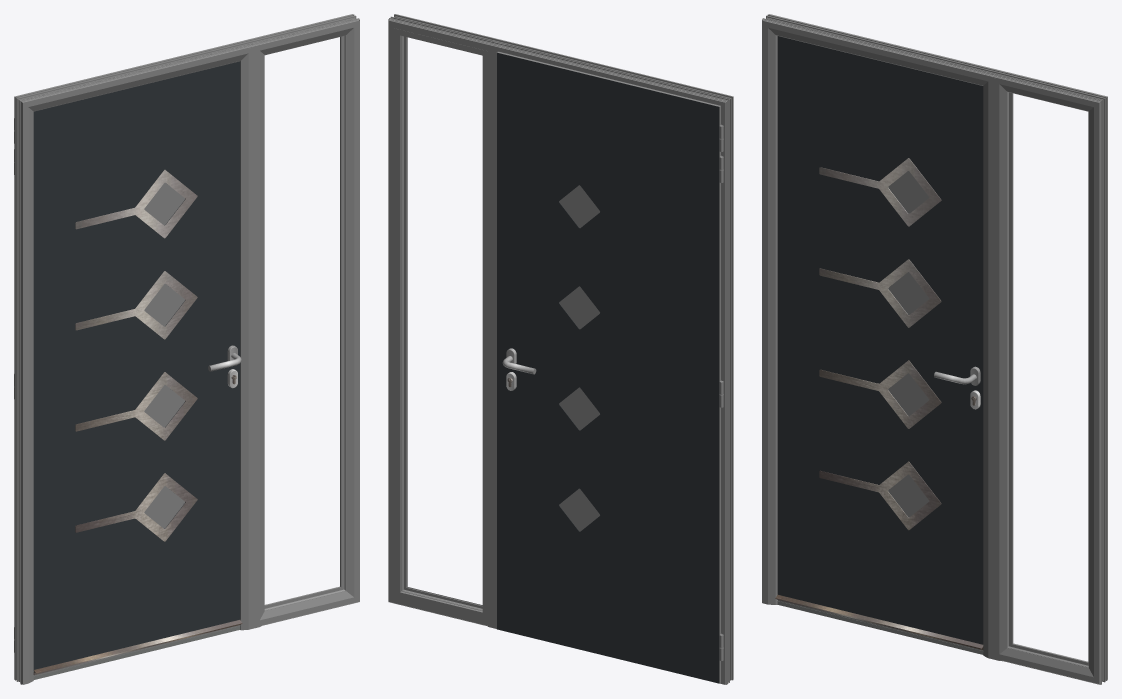
3 views of the same model, side by side, from view 1: azimuth 30°, elevation 25°; view 2: azimuth 150°, elevation 25°; view 3: azimuth 330°, elevation 25° (orthographic).
Visible parts, largest first — view 1: bloco_114, Rectangle002, Line004, alunox_068, Vidro Porta, Object, Object001, Line005, Rectangle005, Rectangle003; view 2: bloco_114, Rectangle002, Rectangle003, Line004, Vidro Porta, Object001, Rectangle004, Object; view 3: bloco_114, Rectangle002, Line004, alunox_068, Vidro Porta, Object001, Object, Line005, Rectangle003, Rectangle005.
Part boxes in pixels (x1,y1,x2,y2): bloco_114: [33, 61, 240, 671]; Rectangle002: [14, 14, 359, 684]; Line004: [240, 46, 264, 630]; alunox_068: [75, 170, 197, 541]; Vidro Porta: [144, 182, 184, 528]; Object: [33, 35, 346, 680]; Object001: [264, 36, 344, 608]; Line005: [33, 620, 242, 674]; Rectangle005: [33, 625, 240, 679]; Rectangle003: [264, 37, 340, 605]; bloco_114: [497, 52, 719, 683]; Rectangle002: [388, 14, 733, 684]; Rectangle003: [394, 28, 487, 619]; Line004: [488, 41, 504, 628]; Vidro Porta: [559, 185, 599, 531]; Object001: [401, 36, 482, 610]; Rectangle004: [496, 51, 720, 683]; Object: [404, 36, 482, 608]; bloco_114: [777, 36, 983, 644]; Rectangle002: [762, 14, 1107, 684]; Line004: [983, 77, 1007, 661]; alunox_068: [819, 158, 941, 530]; Vidro Porta: [888, 171, 929, 517]; Object001: [1007, 92, 1088, 665]; Object: [776, 35, 1088, 667]; Line005: [775, 595, 983, 649]; Rectangle003: [1012, 93, 1087, 662]; Rectangle005: [777, 600, 983, 654].
Size of the model in its own units: 1307 by 2150 by 192.
7 materials, 4 textured.
